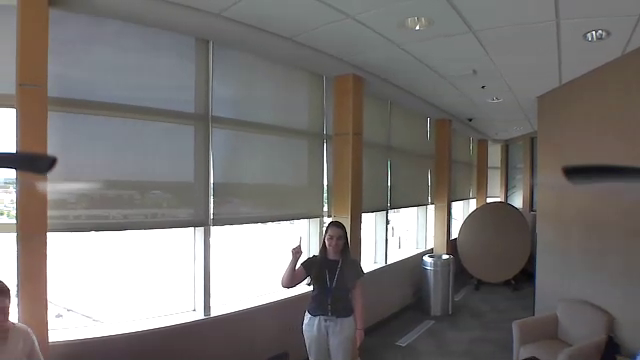up: (288, 232, 305, 260)
